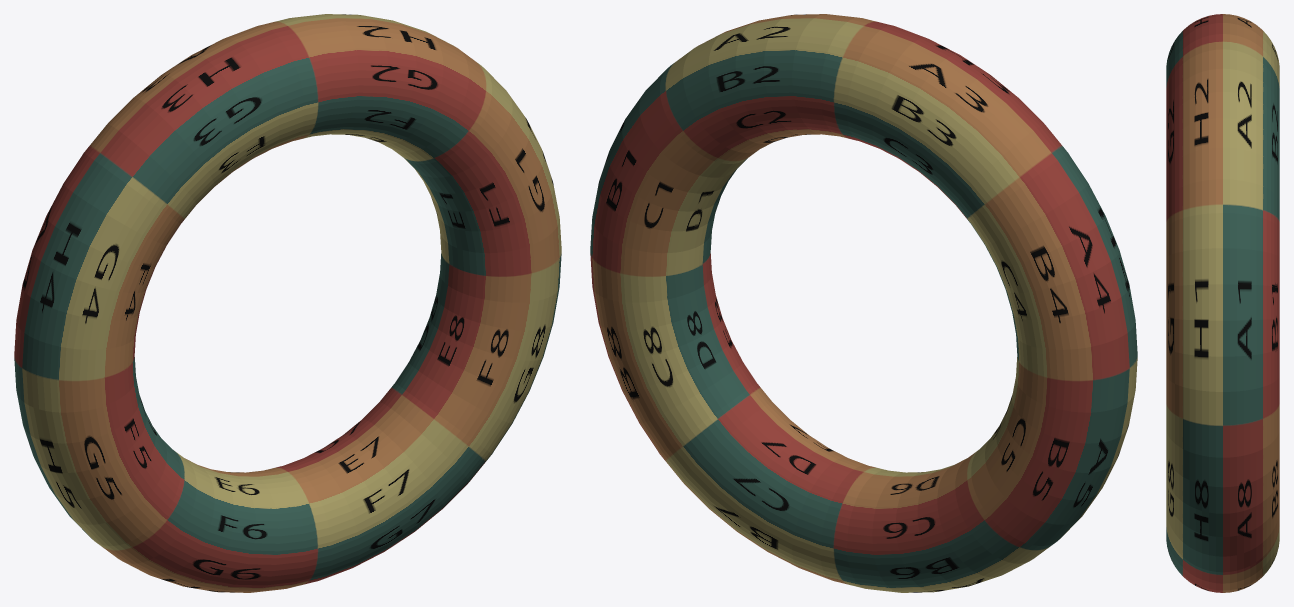
Rendered from texture_torus_R30_r20.glb.
3 renders of one model, left to right at view 1: azimuth 30°, elevation 25°; view 2: azimuth 150°, elevation 25°; view 3: azimuth 270°, elevation 25°, orthographic. The views are drawn at different scales.
Parts seen in each view (by area): view 1: world; view 2: world; view 3: world.
Part boxes in pixels (left/top/right/bottom): world: left=14, top=14, right=561, bottom=592; world: left=590, top=14, right=1137, bottom=592; world: left=1166, top=14, right=1279, bottom=592.
Size of the model in its own units: 37.33 by 37.26 by 7.32.
Materials: 1 (1 with a texture image).
